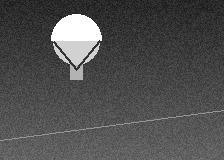helmet: (51, 14, 101, 69)
